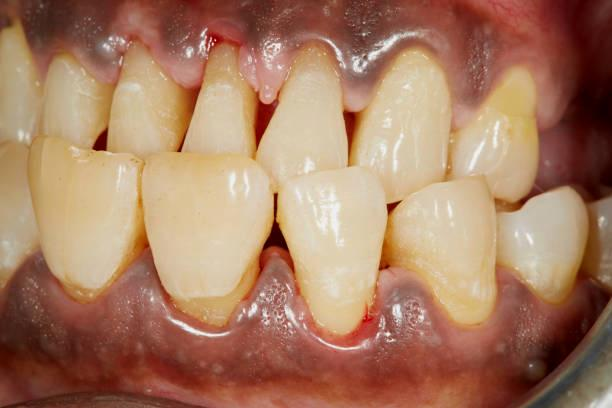Calculus: (141, 150, 278, 337), (29, 141, 155, 310), (389, 197, 507, 334)
